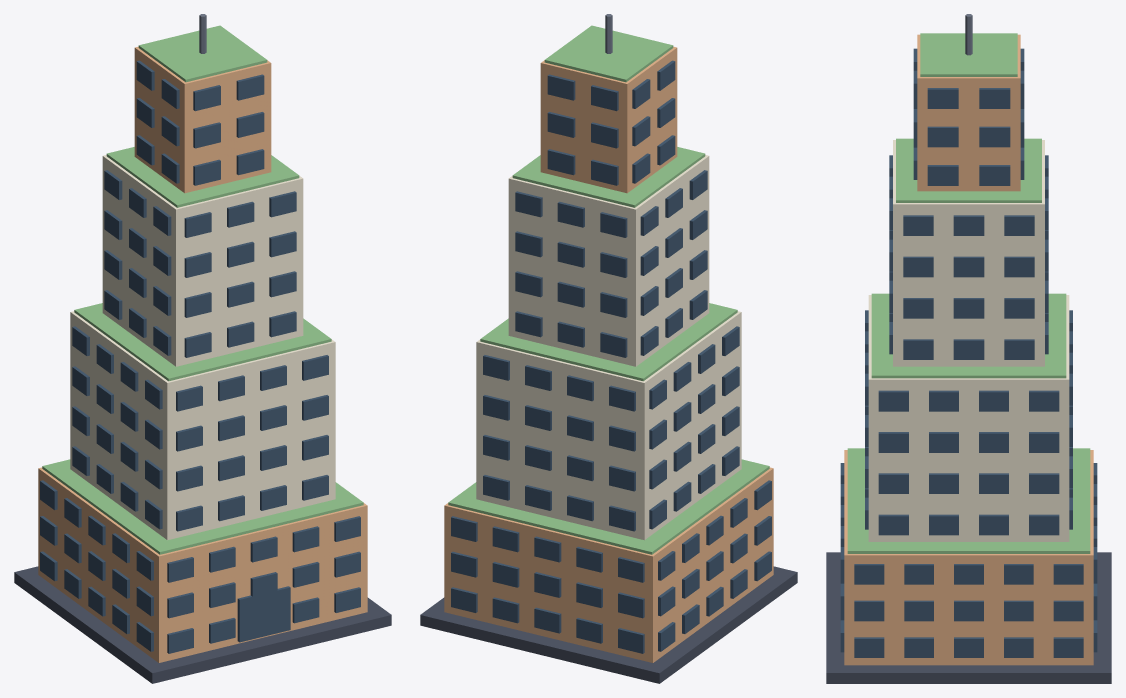
Rendered from tower_stepped.glb.
3 views of the same model, side by side, from view 1: azimuth 30°, elevation 25°; view 2: azimuth 150°, elevation 25°; view 3: azimuth 270°, elevation 25° (orthographic). The views are drawn at different scales.
Parts seen in each view (by area): view 1: tower_stepped_body; view 2: tower_stepped_body; view 3: tower_stepped_body.
Boxes of the visible parts, x1,y1,x2,y2 form: tower_stepped_body: (14,14,391,683); tower_stepped_body: (420,14,797,683); tower_stepped_body: (826,14,1111,683).
Size of the model in its own units: 0.94 by 2.21 by 0.94.
